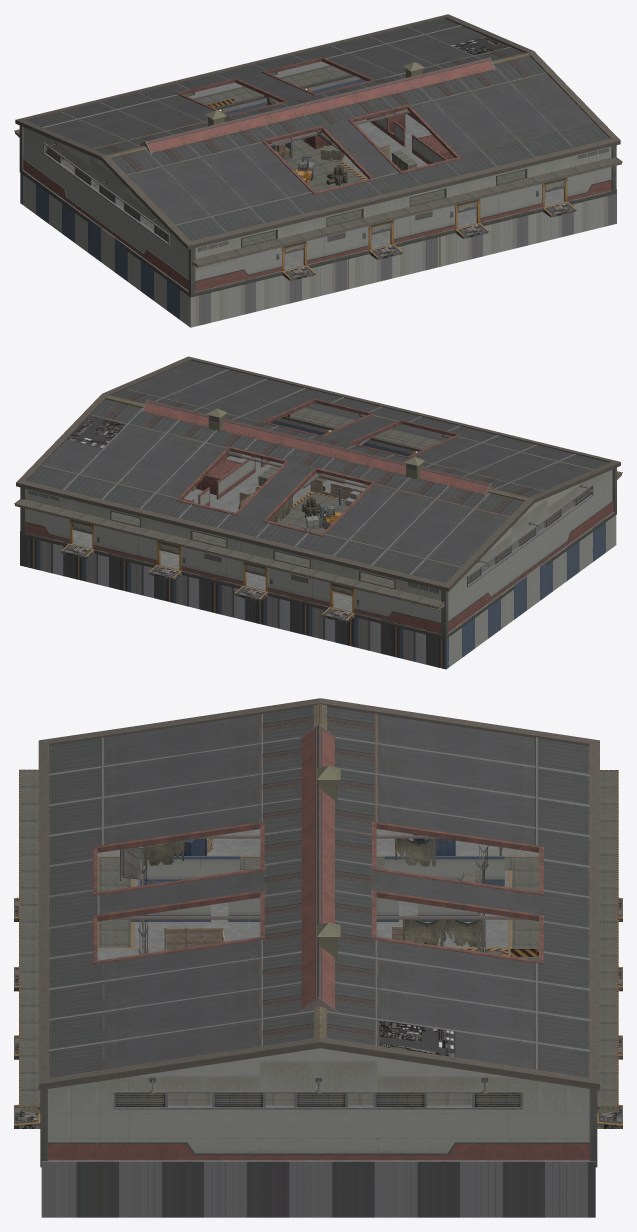
File: warehouse.glb
3 views of the same model, one above another, from view 1: azimuth 30°, elevation 25°; view 2: azimuth 150°, elevation 25°; view 3: azimuth 270°, elevation 25° (orthographic). The views are drawn at different scales.
Visible parts, largest first — view 1: mesh_11_154.nr, mesh_11_149.nr, mesh_11_146.nr, mesh_11_141.nr, mesh_11_116.nr, mesh_11_158.nr; view 2: mesh_11_154.nr, mesh_11_149.nr, mesh_11_146.nr, mesh_11_141.nr, mesh_11_116.nr, mesh_11_158.nr, mesh_11_67.nr; view 3: mesh_11_154.nr, mesh_11_149.nr, mesh_11_146.nr, mesh_11_141.nr, mesh_11_158.nr, mesh_11_116.nr, mesh_11_142.nr.004, mesh_11_142.nr.002, mesh_11_142.nr.003, mesh_11_142.nr.001.
Part boxes in pixels (x1,y1,x2,y2): mesh_11_154.nr: [24, 18, 611, 280]; mesh_11_149.nr: [14, 14, 622, 297]; mesh_11_146.nr: [20, 161, 616, 327]; mesh_11_141.nr: [22, 114, 564, 291]; mesh_11_116.nr: [282, 36, 576, 281]; mesh_11_158.nr: [284, 138, 365, 191]; mesh_11_154.nr: [25, 360, 612, 622]; mesh_11_149.nr: [14, 356, 622, 639]; mesh_11_146.nr: [20, 490, 616, 669]; mesh_11_141.nr: [72, 453, 613, 633]; mesh_11_116.nr: [61, 416, 354, 622]; mesh_11_158.nr: [277, 491, 352, 596]; mesh_11_67.nr: [202, 458, 241, 495]; mesh_11_154.nr: [15, 706, 621, 1153]; mesh_11_149.nr: [14, 698, 622, 1167]; mesh_11_146.nr: [41, 855, 595, 1217]; mesh_11_141.nr: [41, 829, 595, 1161]; mesh_11_158.nr: [98, 857, 538, 960]; mesh_11_116.nr: [14, 901, 622, 1128]; mesh_11_142.nr.004: [394, 838, 435, 866]; mesh_11_142.nr.002: [443, 919, 484, 947]; mesh_11_142.nr.003: [402, 919, 443, 946]; mesh_11_142.nr.001: [143, 840, 184, 865].
Bounding box in the file's own units: 83.73 × 22.37 × 60.56.
Materials: 36 (36 with a texture image).
